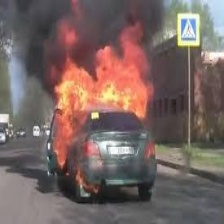fire: (52, 47, 155, 184)
smoke: (14, 1, 160, 35)
